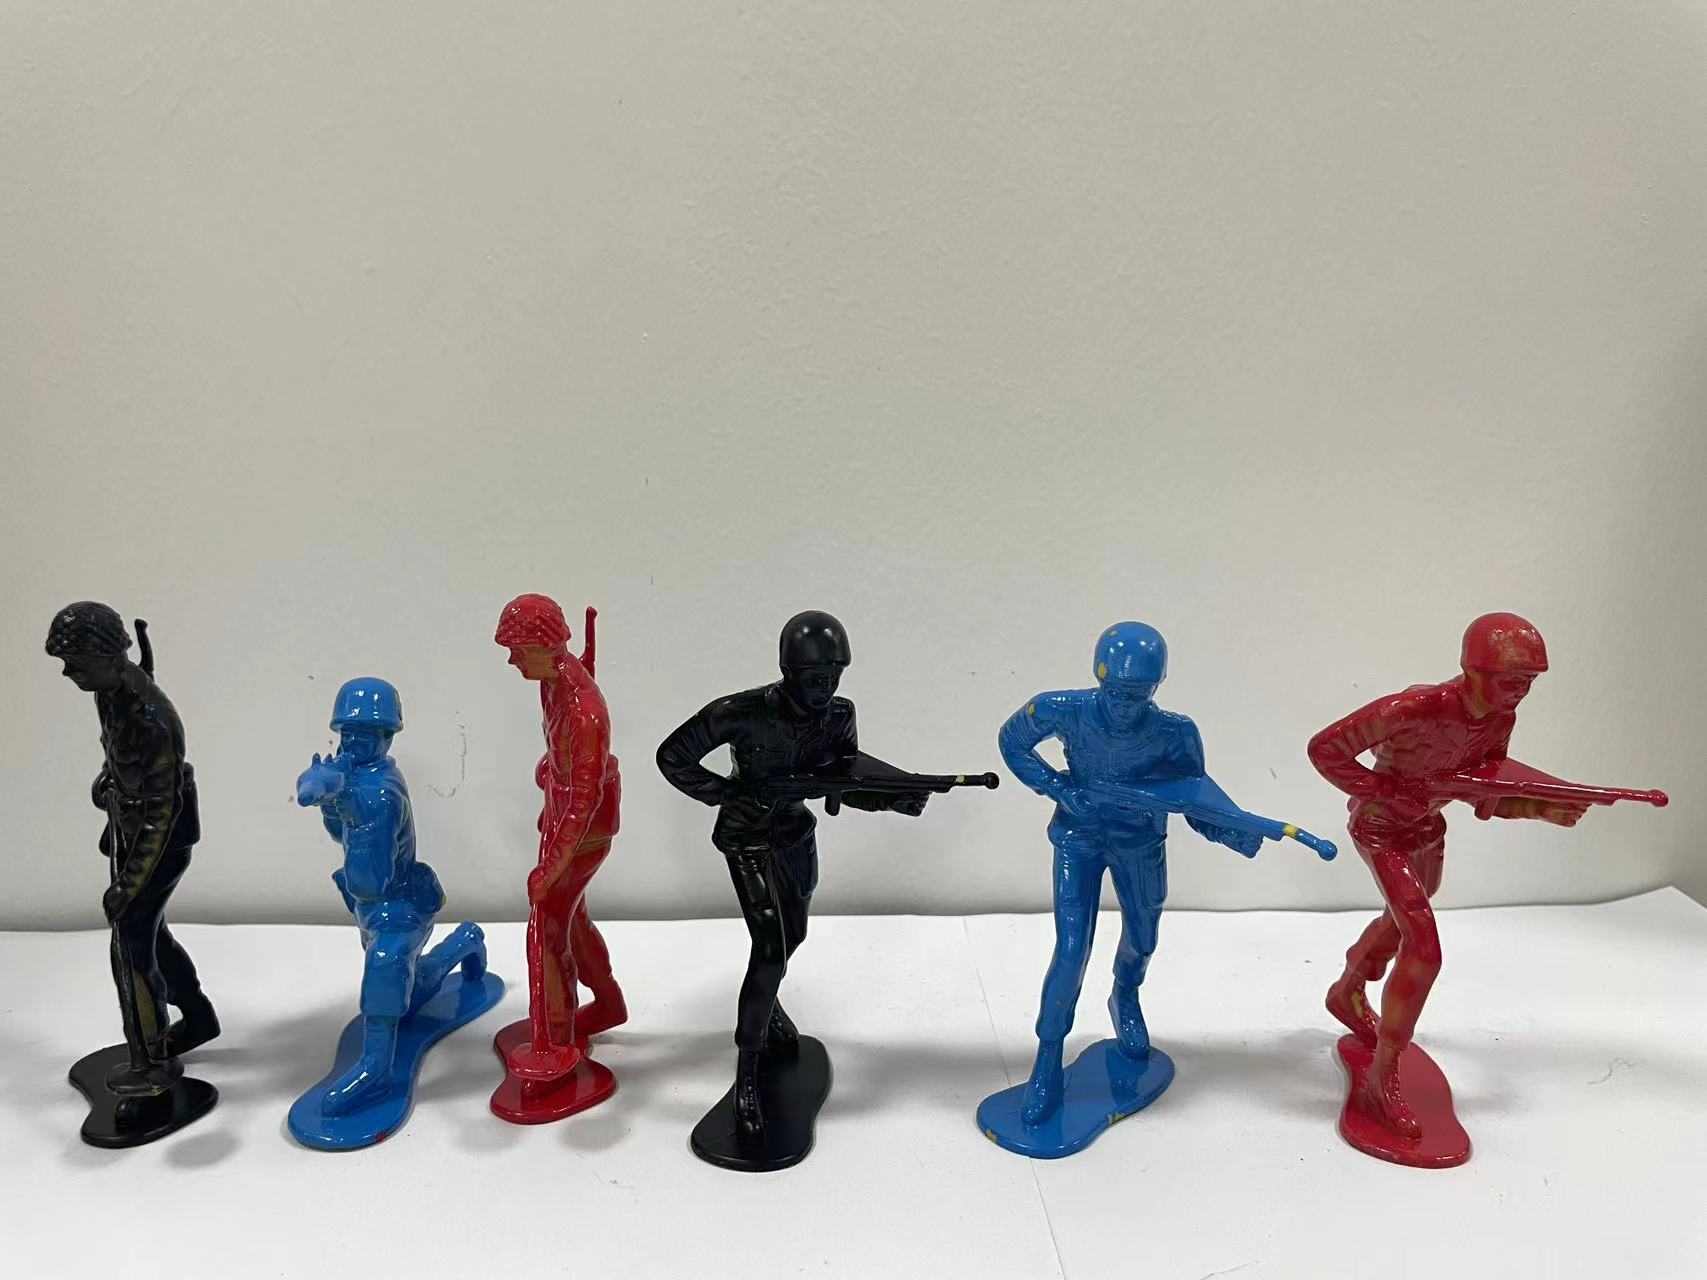black: (649, 588, 961, 1203), (40, 570, 272, 1152)
blue: (964, 618, 1298, 1185), (262, 660, 496, 1185)
red: (1288, 594, 1668, 1203), (487, 541, 652, 1170)
